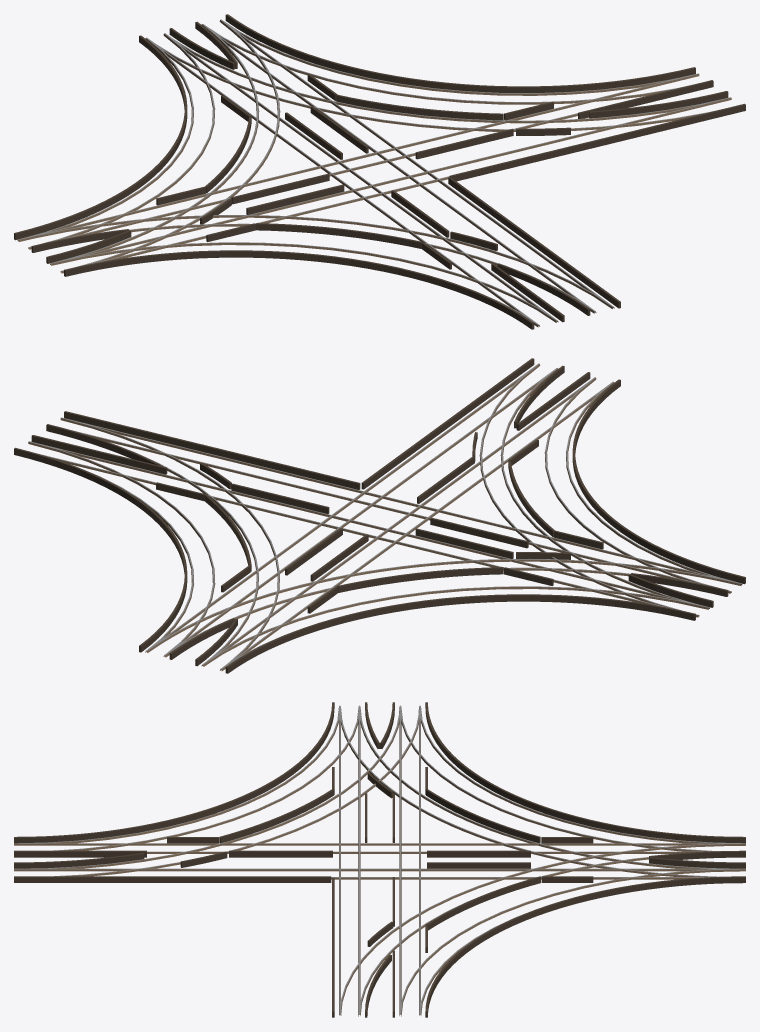
File: SW_ENV_TrackJunction_EL_03_Collision.fbx
3 views of the same model, one above another, from view 1: azimuth 30°, elevation 25°; view 2: azimuth 150°, elevation 25°; view 3: azimuth 270°, elevation 25° (orthographic). The views are drawn at different scales.
Visible parts, largest first — view 1: SW_ENV_TrackJunction_EL_03_Collision; view 2: SW_ENV_TrackJunction_EL_03_Collision; view 3: SW_ENV_TrackJunction_EL_03_Collision.
Boxes of the visible parts, box(x1,y1,x2,y2) form: SW_ENV_TrackJunction_EL_03_Collision: box(14, 14, 745, 329); SW_ENV_TrackJunction_EL_03_Collision: box(14, 358, 745, 673); SW_ENV_TrackJunction_EL_03_Collision: box(14, 702, 745, 1017).
Bounding box in the file's own units: 5450 × 47.72 × 5450.
